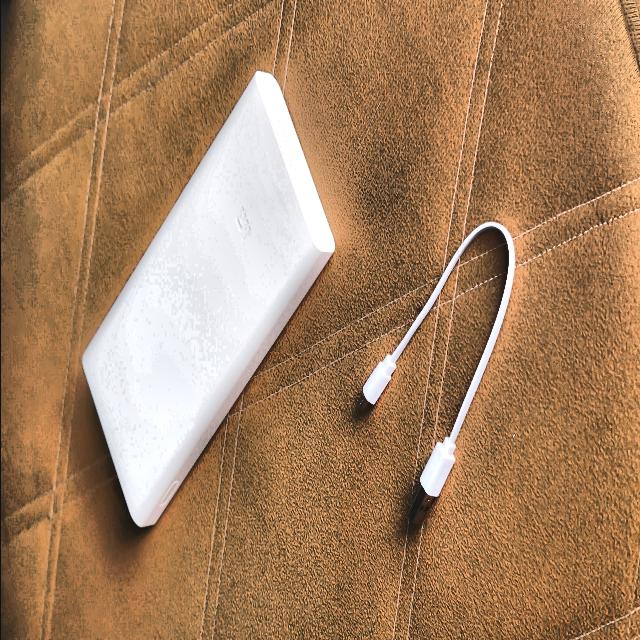Power bank: (82, 72, 334, 527)
